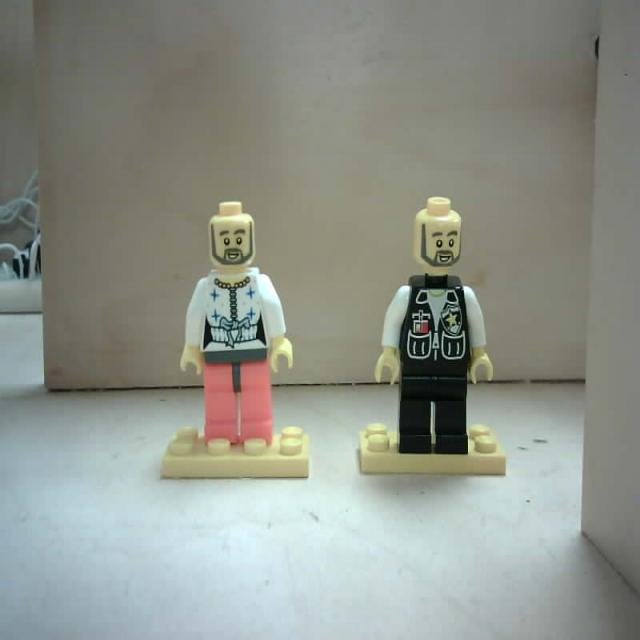Lego-People: (354, 194, 510, 478), (158, 200, 311, 484)
